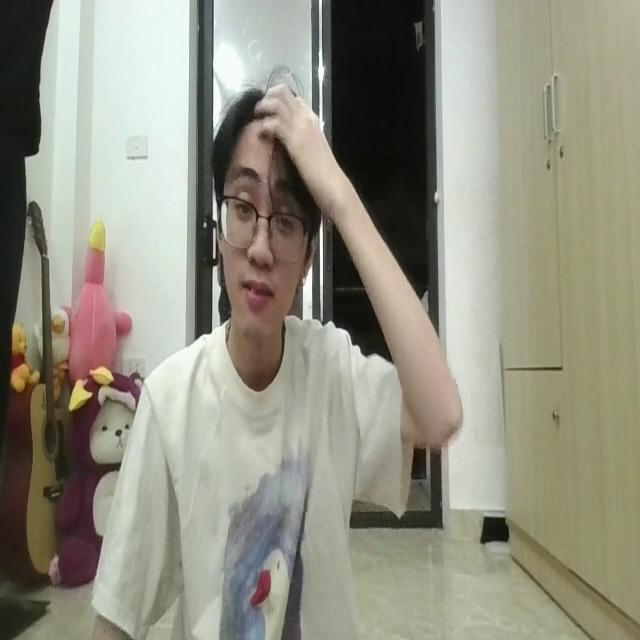student: (96, 73, 462, 640)
